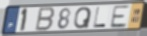1: (19, 7, 29, 33)
8: (57, 8, 71, 31)
B: (34, 7, 57, 33)
E: (109, 4, 131, 29)
L: (92, 6, 107, 29)
Q: (73, 6, 93, 30)
